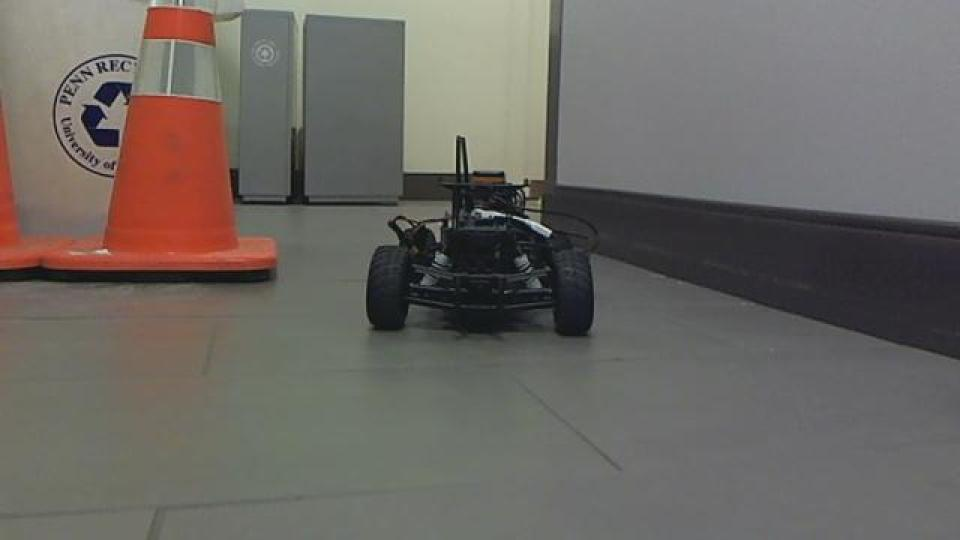car: (362, 133, 602, 339)
